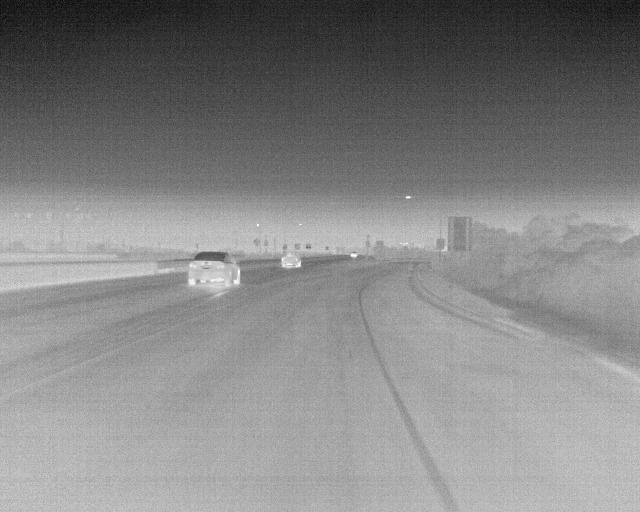car: (185, 251, 241, 290), (278, 251, 302, 271)
